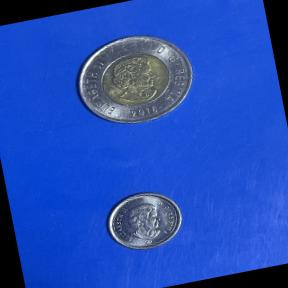coin: (58, 18, 210, 140), (94, 181, 191, 261)
